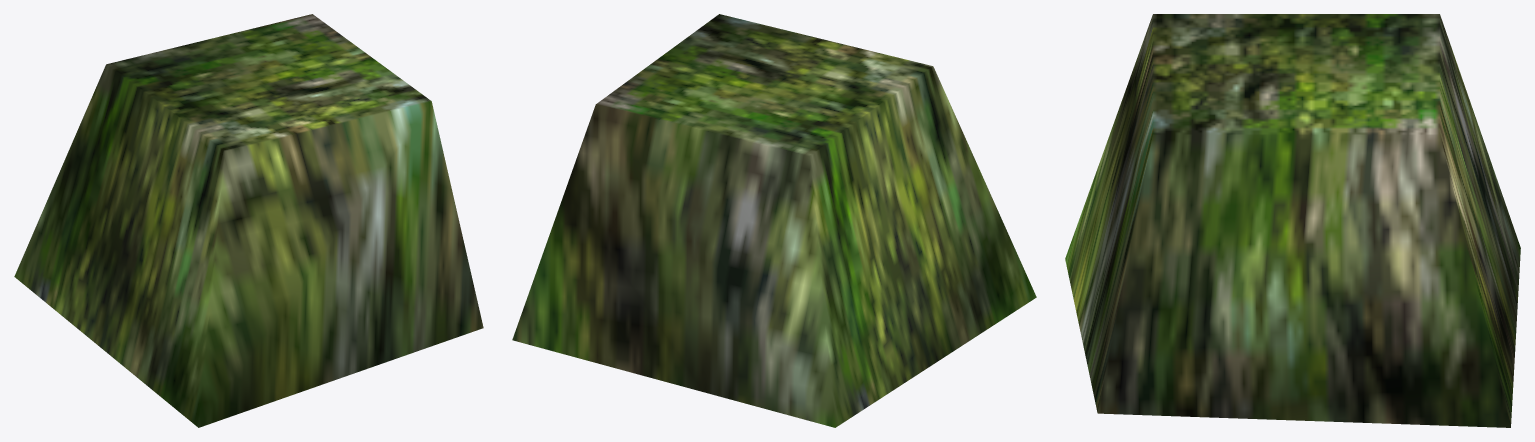
File: frst_rock_mossy_sm_l2.fbx
The picture shows the model from 3 angles, left to right: view 1: azimuth 30°, elevation 25°; view 2: azimuth 150°, elevation 25°; view 3: azimuth 270°, elevation 25°; orthographic projection. The views are drawn at different scales.
Visible parts, largest first — view 1: mesh_node; view 2: mesh_node; view 3: mesh_node.
Part boxes in pixels (<box>): mesh_node: <box>14,14,483,427</box>; mesh_node: <box>512,14,1036,427</box>; mesh_node: <box>1065,14,1520,427</box>.
Bounding box in the file's own units: 0.6933 × 0.4839 × 0.7087.
